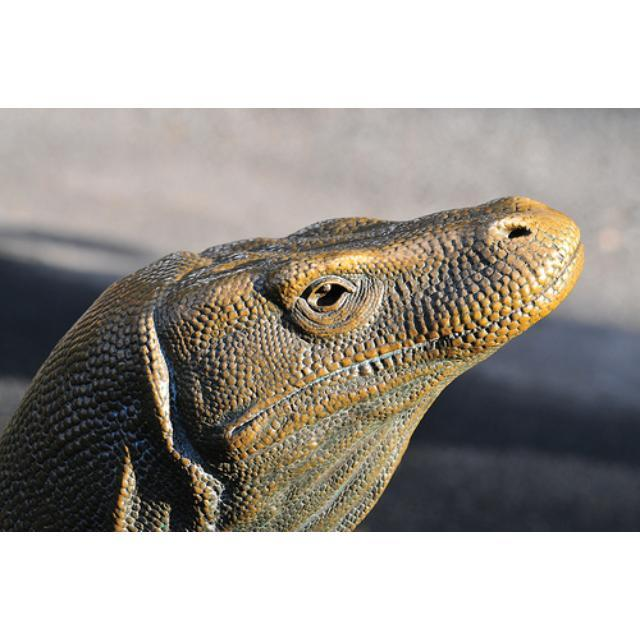KomodoDragon: (3, 194, 587, 528)
